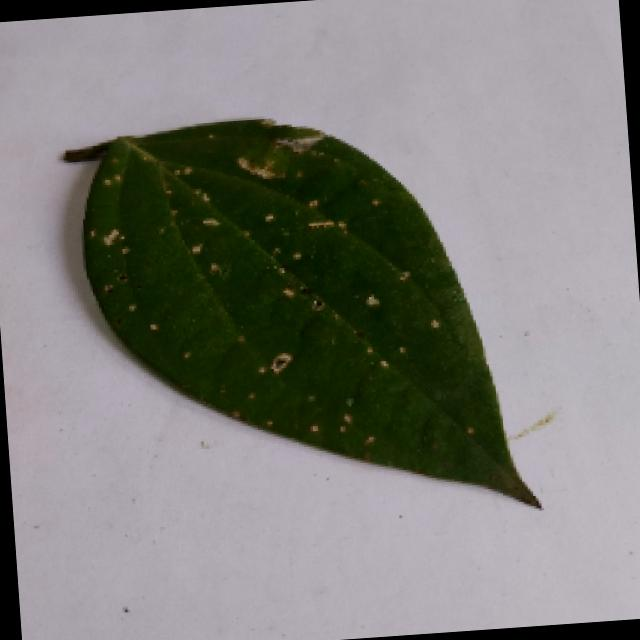pollu-disease: (43, 87, 564, 543)
